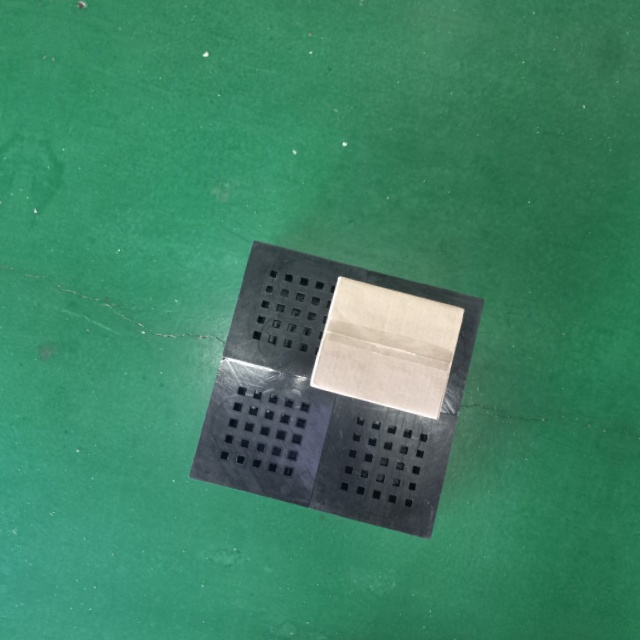box: (306, 271, 468, 424)
pallet: (175, 228, 490, 549)
